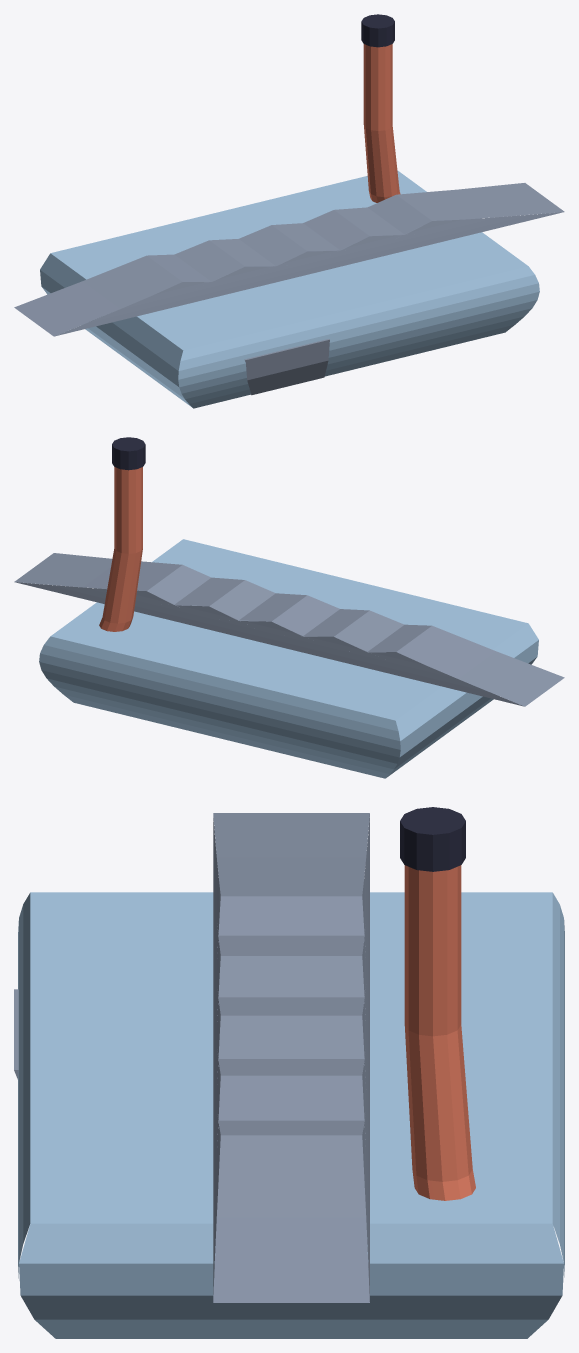
Rendered from factory.glb.
The picture shows the model from 3 angles, top to bottom: view 1: azimuth 30°, elevation 25°; view 2: azimuth 150°, elevation 25°; view 3: azimuth 270°, elevation 25°; orthographic projection. The views are drawn at different scales.
Parts seen in each view (by area): view 1: factory_wall_blue, factory_metal, factory_brick, factory_black; view 2: factory_wall_blue, factory_metal, factory_brick, factory_black; view 3: factory_wall_blue, factory_metal, factory_brick, factory_black.
Boxes of the visible parts, bbox=[...] form: factory_wall_blue: bbox=[40, 170, 539, 408]; factory_metal: bbox=[14, 183, 564, 395]; factory_brick: bbox=[363, 44, 400, 202]; factory_black: bbox=[361, 14, 394, 47]; factory_wall_blue: bbox=[39, 539, 538, 778]; factory_metal: bbox=[14, 553, 564, 706]; factory_brick: bbox=[99, 467, 142, 631]; factory_black: bbox=[112, 437, 145, 470]; factory_wall_blue: bbox=[18, 892, 564, 1338]; factory_metal: bbox=[14, 813, 369, 1302]; factory_brick: bbox=[404, 865, 475, 1200]; factory_black: bbox=[400, 807, 465, 871].
Size of the model in its own units: 51.14 by 23.75 by 24.3.
